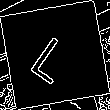L_NE: (28, 26, 82, 84)
